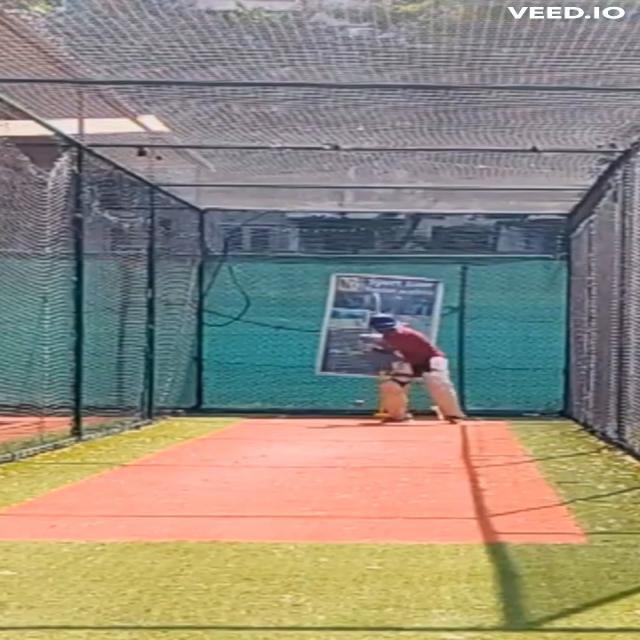ball: (351, 398, 368, 407)
